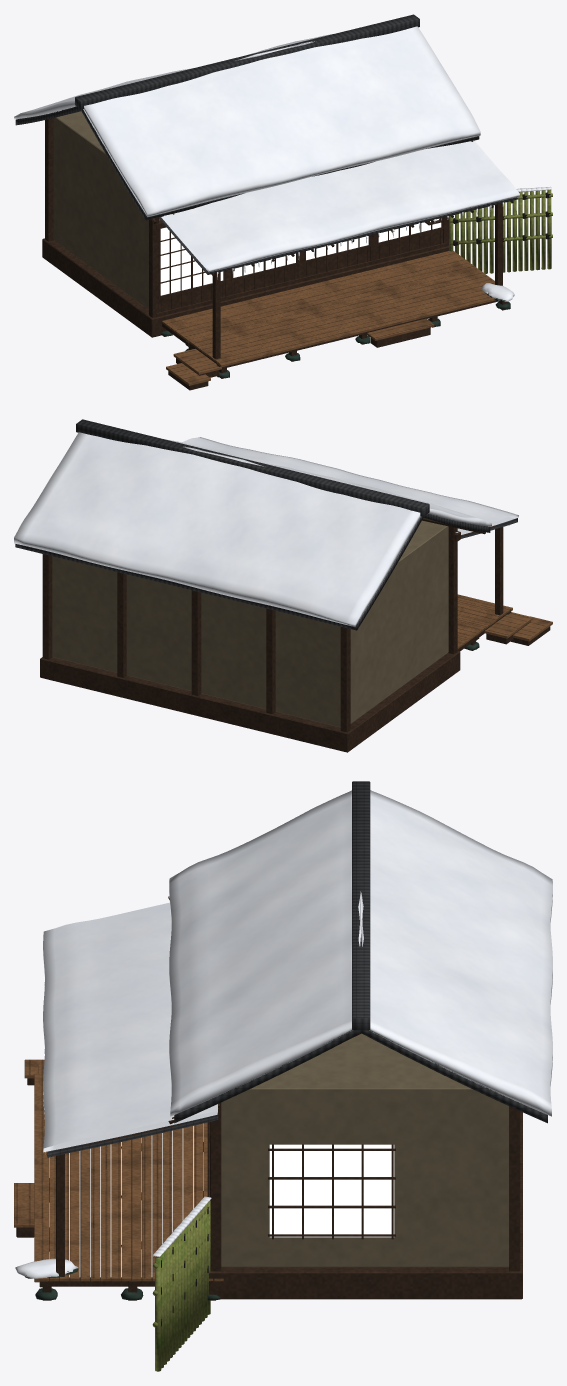
The model's file is ryokan_and_deck.glb.
3 views of the same model, one above another, from view 1: azimuth 30°, elevation 25°; view 2: azimuth 150°, elevation 25°; view 3: azimuth 270°, elevation 25° (orthographic). The views are drawn at different scales.
Visible parts, largest first — view 1: RyokanRoofSnowBlanket, RyokanHinokiDeck, RyokanCedarTimber, RyokanPlasterWalls, RyokanTiledRoofs, BambooPrivacyFence, ShojiGlowingScreens, DeckCedarSubstructure, DeckFoundationStones; view 2: RyokanRoofSnowBlanket, RyokanPlasterWalls, RyokanCedarTimber, RyokanTiledRoofs, RyokanHinokiDeck, DeckCedarSubstructure; view 3: RyokanRoofSnowBlanket, RyokanPlasterWalls, RyokanHinokiDeck, RyokanCedarTimber, ShojiGlowingScreens, RyokanTiledRoofs, BambooPrivacyFence, DeckCedarSubstructure, DeckCornerSnow.
Part boxes in pixels (bbox=[...]): RyokanRoofSnowBlanket: bbox=[14, 26, 519, 279]; RyokanHinokiDeck: bbox=[162, 250, 495, 385]; RyokanCedarTimber: bbox=[42, 118, 502, 359]; RyokanPlasterWalls: bbox=[53, 111, 160, 309]; RyokanTiledRoofs: bbox=[15, 14, 518, 274]; BambooPrivacyFence: bbox=[449, 189, 552, 273]; ShojiGlowingScreens: bbox=[160, 218, 441, 295]; DeckCedarSubstructure: bbox=[162, 300, 507, 390]; DeckFoundationStones: bbox=[161, 292, 510, 378]; RyokanRoofSnowBlanket: bbox=[14, 432, 518, 626]; RyokanPlasterWalls: bbox=[52, 520, 448, 727]; RyokanCedarTimber: bbox=[40, 526, 503, 752]; RyokanTiledRoofs: bbox=[15, 419, 517, 630]; RyokanHinokiDeck: bbox=[457, 594, 552, 649]; DeckCedarSubstructure: bbox=[457, 611, 550, 651]; RyokanRoofSnowBlanket: bbox=[43, 790, 552, 1154]; RyokanPlasterWalls: bbox=[221, 1033, 509, 1267]; RyokanHinokiDeck: bbox=[14, 1059, 223, 1282]; RyokanCedarTimber: bbox=[56, 1102, 522, 1299]; ShojiGlowingScreens: bbox=[269, 1144, 394, 1237]; RyokanTiledRoofs: bbox=[47, 781, 547, 1157]; BambooPrivacyFence: bbox=[152, 1200, 210, 1371]; DeckCedarSubstructure: bbox=[16, 1078, 224, 1300]; DeckCornerSnow: bbox=[15, 1258, 78, 1278].
Size of the model in its own units: 8.17 by 4.13 by 6.49.
Materials: 10 (10 with a texture image).
